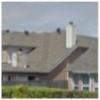chimneys: (12, 47, 30, 69), (66, 21, 77, 49)
